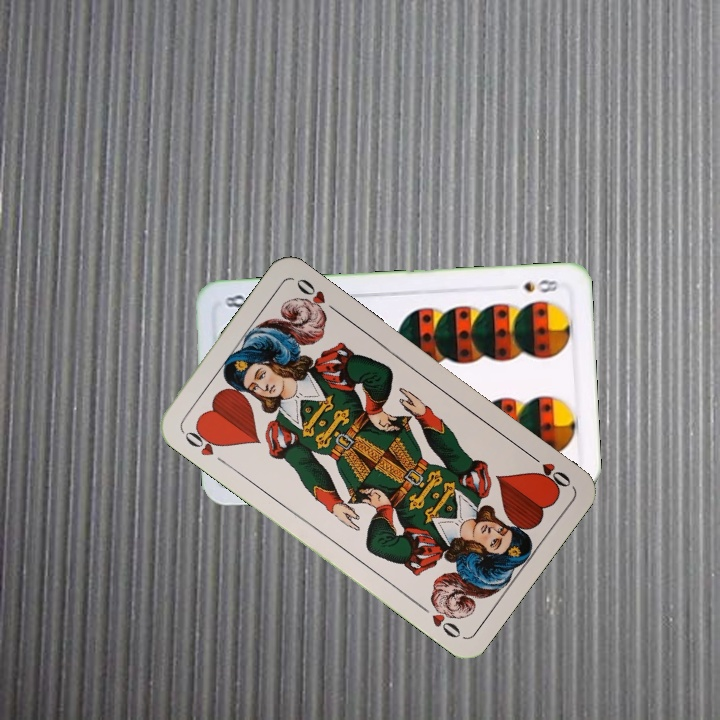HO: (179, 422, 230, 467), (523, 448, 574, 492)
S8: (520, 275, 566, 295)
